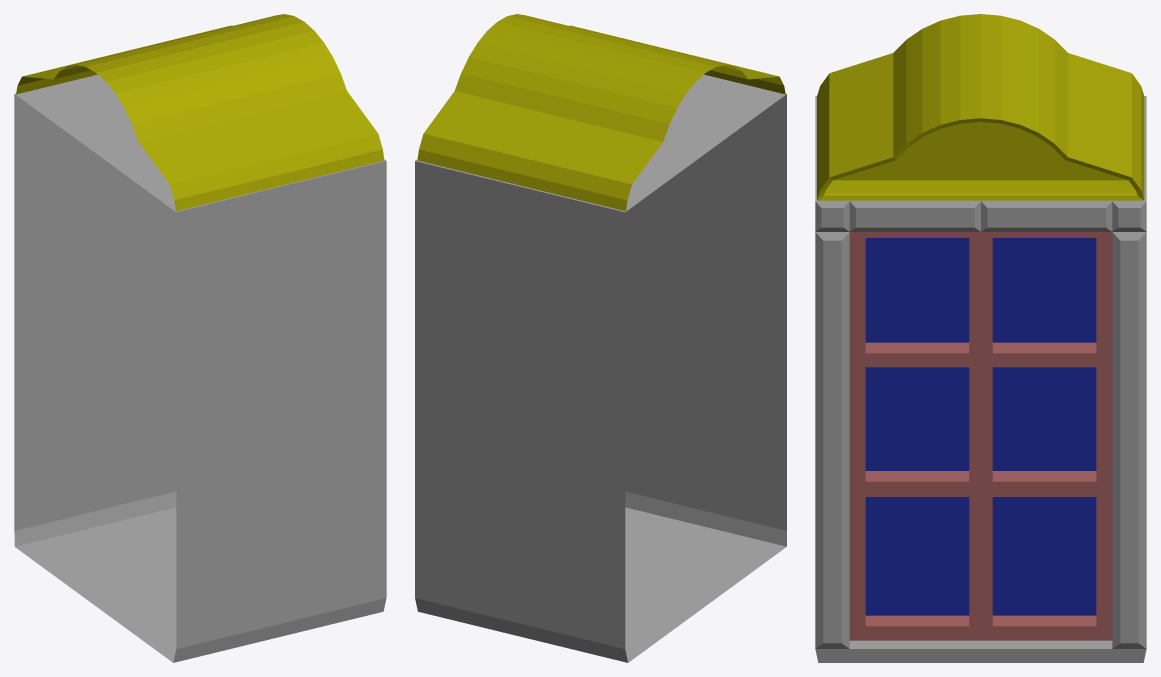
File: MansardWindow_LODs.fbx
3 views of the same model, side by side, from view 1: azimuth 30°, elevation 25°; view 2: azimuth 150°, elevation 25°; view 3: azimuth 270°, elevation 25° (orthographic). The views are drawn at different scales.
Parts seen in each view (by area): view 1: Window_LOD0; view 2: Window_LOD0; view 3: Window_LOD0.
Boxes of the visible parts, box(x1,y1,x2,y2) form: Window_LOD0: box(14, 14, 386, 662); Window_LOD0: box(415, 14, 786, 662); Window_LOD0: box(815, 14, 1146, 662).
Bounding box in the file's own units: 0.527 × 1.25 × 0.6868.
